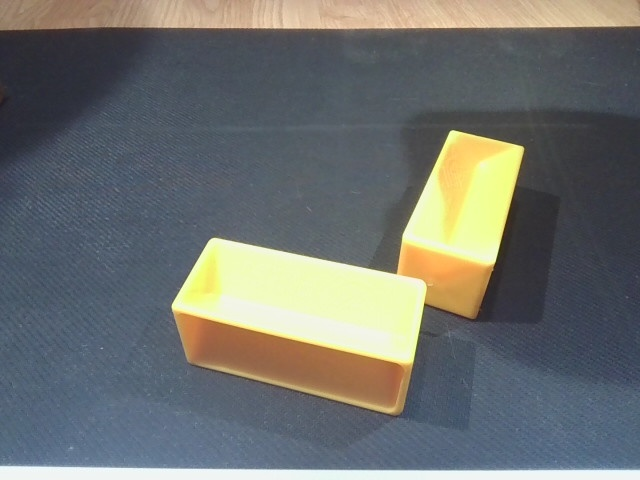YellowSample: (165, 235, 426, 419), (394, 114, 518, 326)
